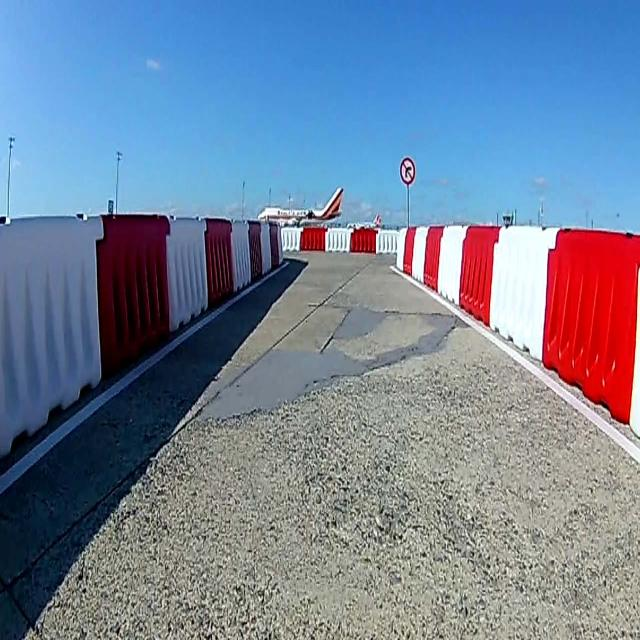sagadonulmez: (399, 155, 415, 185)
